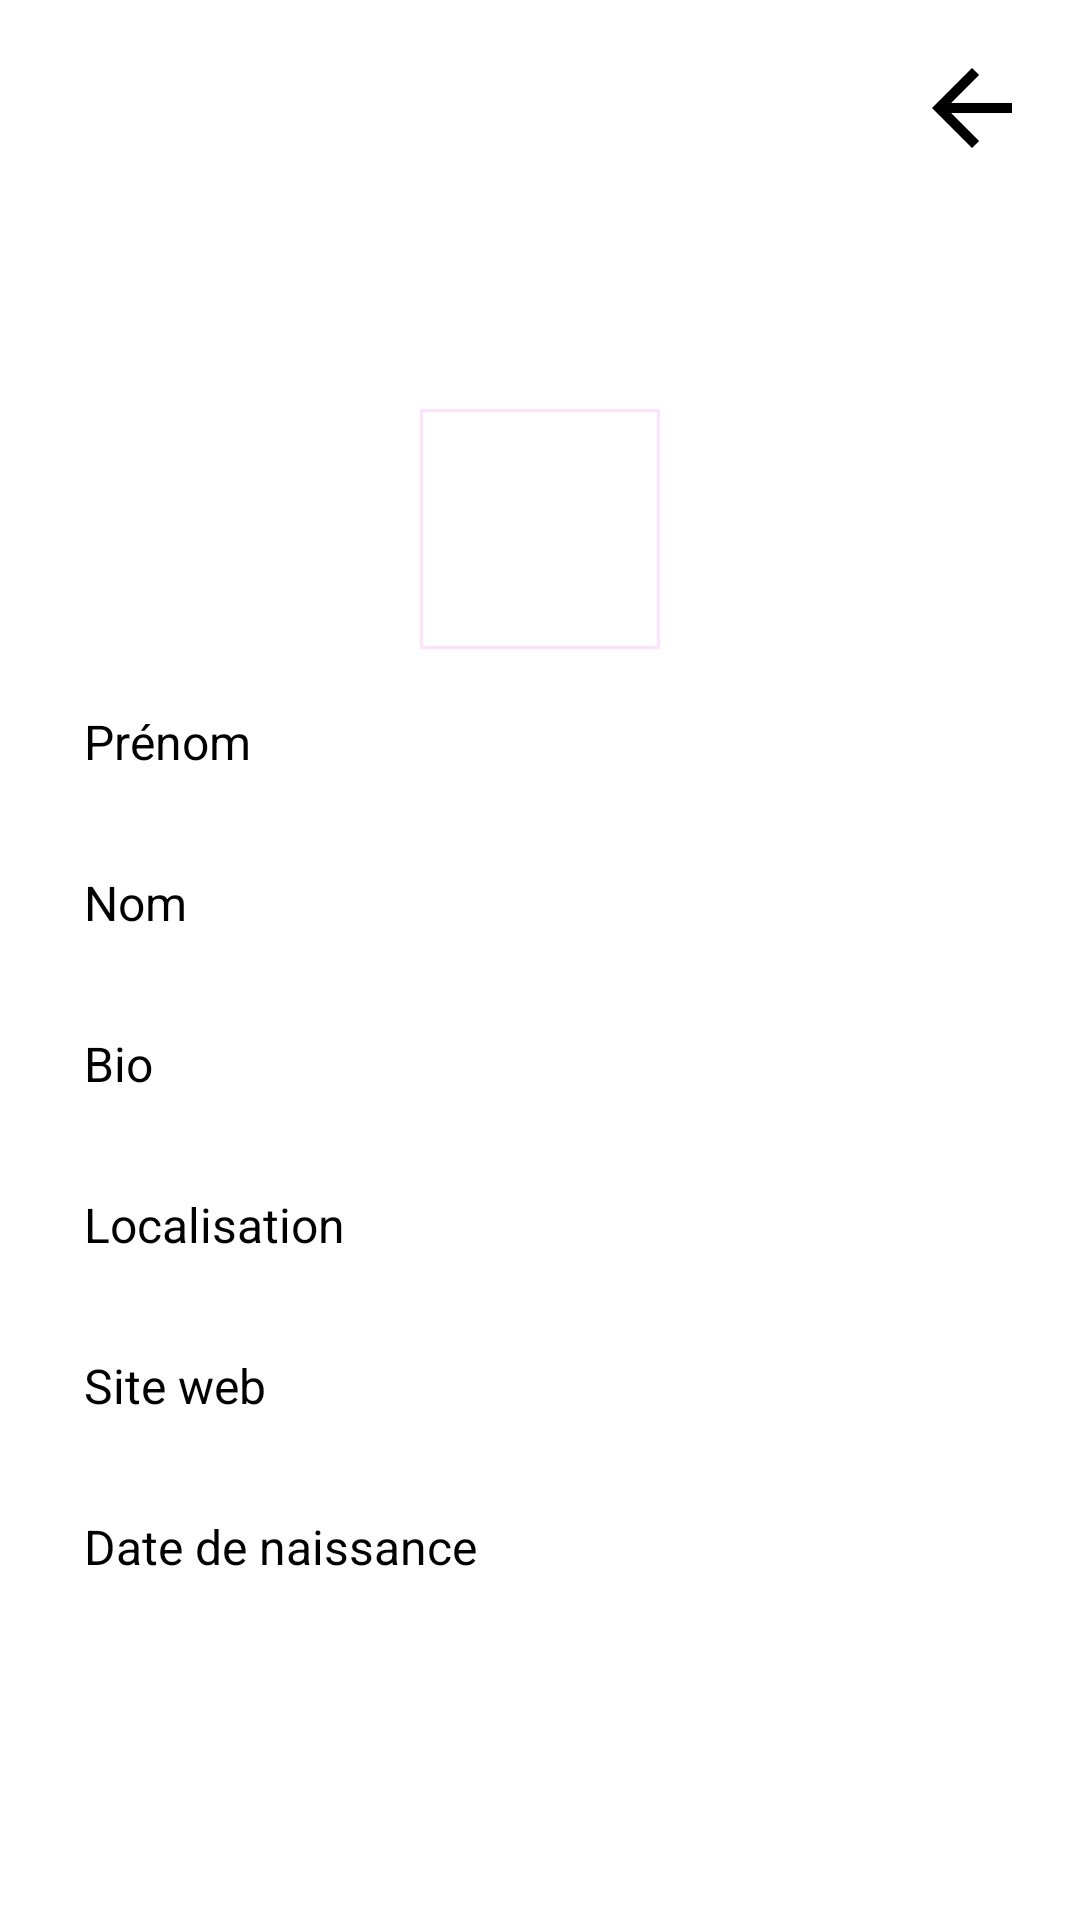

Icons on this 1080x1920 Android screen, each with the point to tap as (x,y):
arrow back: (972,108)
